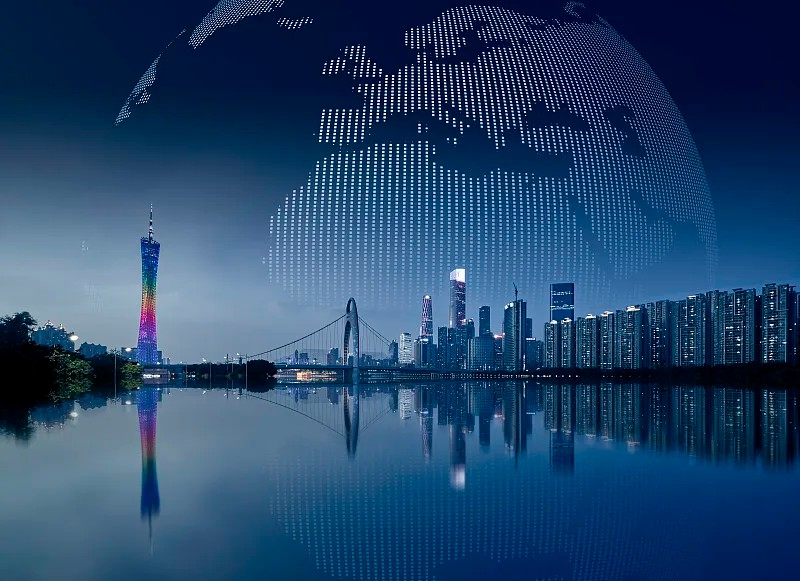Canton: (138, 202, 160, 366)
